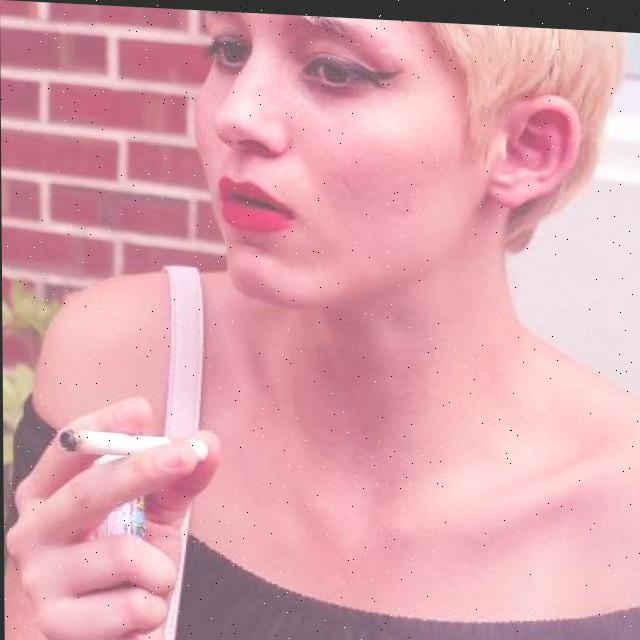cigarette: (60, 426, 209, 460)
